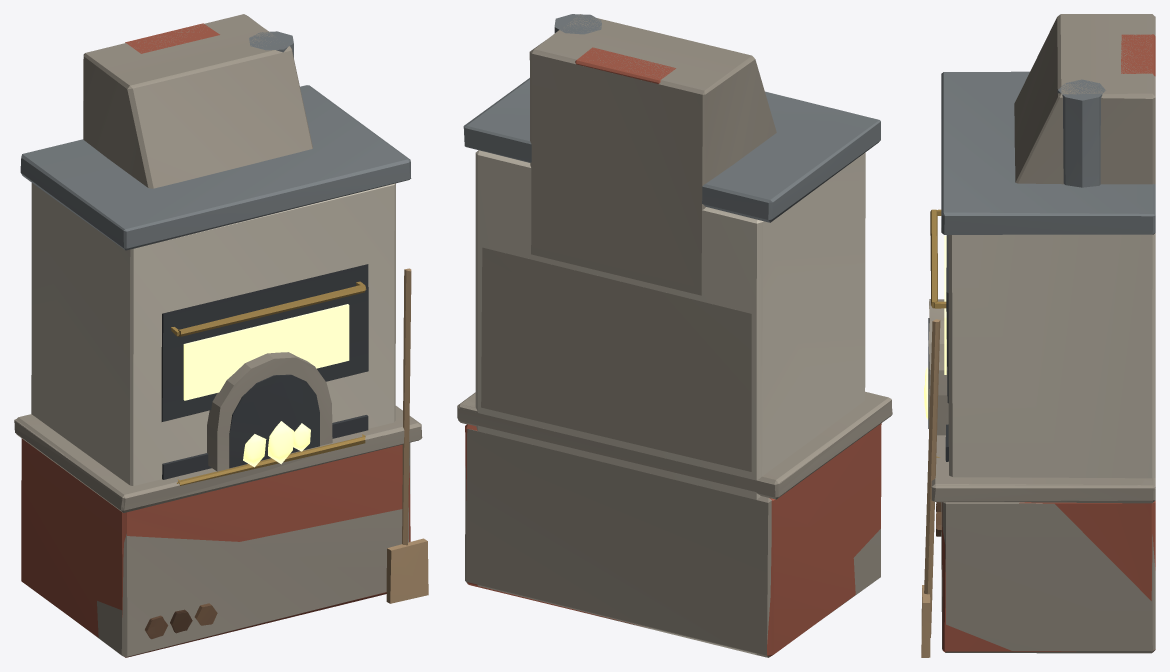
Rendered from bakery.oven.glb.
3 views of the same model, side by side, from view 1: azimuth 30°, elevation 25°; view 2: azimuth 150°, elevation 25°; view 3: azimuth 270°, elevation 25° (orthographic). The views are drawn at different scales.
Parts seen in each view (by area): view 1: bakery.oven.v1.mesh, bakery.oven.v2.mesh, bakery.oven.v0.mesh; view 2: bakery.oven.v2.mesh, bakery.oven.v1.mesh, bakery.oven.v0.mesh; view 3: bakery.oven.v1.mesh, bakery.oven.v2.mesh, bakery.oven.v0.mesh.
Boxes of the visible parts, x1=… form: bakery.oven.v1.mesh: x1=20, y1=31, x2=411, y2=485; bakery.oven.v2.mesh: x1=14, y1=14, x2=428, y2=657; bakery.oven.v0.mesh: x1=14, y1=23, x2=419, y2=657; bakery.oven.v2.mesh: x1=457, y1=14, x2=891, y2=657; bakery.oven.v1.mesh: x1=463, y1=14, x2=880, y2=655; bakery.oven.v0.mesh: x1=459, y1=47, x2=892, y2=656; bakery.oven.v1.mesh: x1=930, y1=71, x2=1155, y2=478; bakery.oven.v2.mesh: x1=921, y1=14, x2=1155, y2=657; bakery.oven.v0.mesh: x1=924, y1=34, x2=1155, y2=651.
Bounding box in the file's own units: 1.47 × 2.4 × 0.964.
